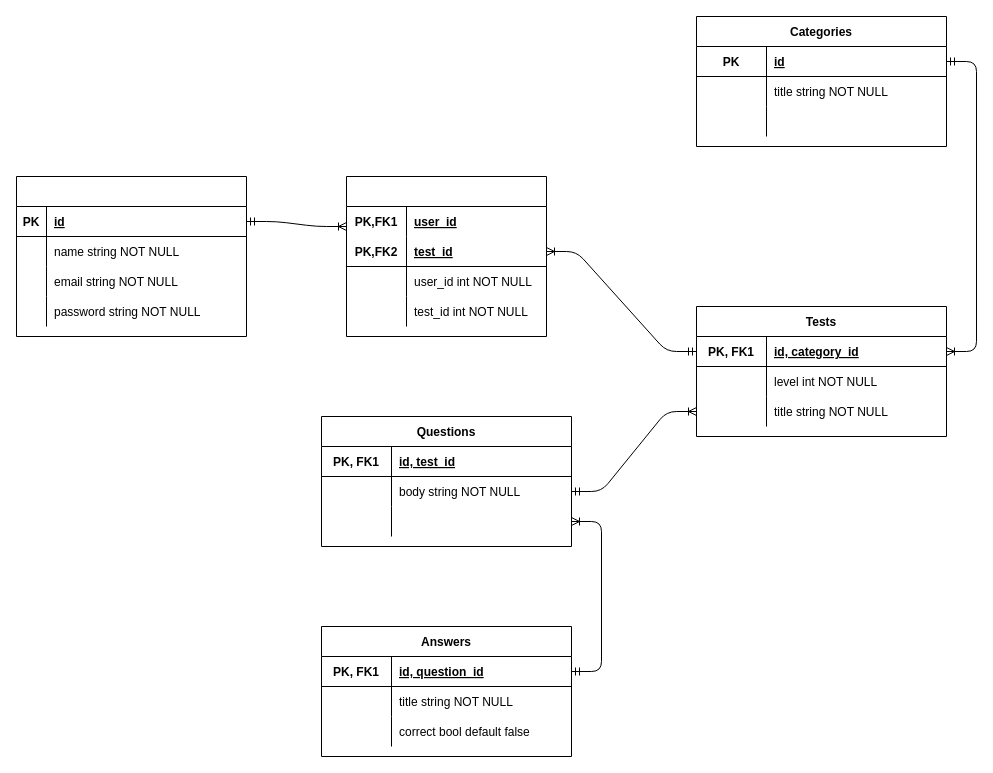
The diagram is 993 pixels wide and 773 high, and some of its shapes have lost their labels. Here are the shapes that lost their labels. From the top down, the box of each, then its label:
(16, 176, 246, 336): Users
(346, 176, 546, 336): TestUsers
